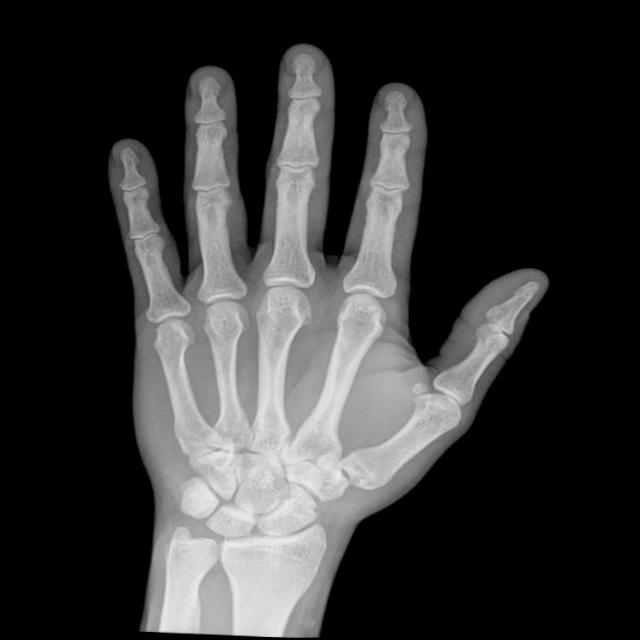Healthy: (102, 119, 501, 606)
